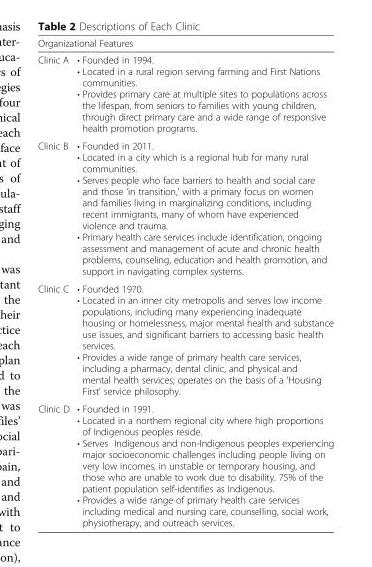table: (37, 37, 333, 527)
table column: (72, 37, 333, 527), (37, 37, 72, 527)
table column header: (37, 37, 333, 136)
table row: (37, 136, 333, 279), (37, 399, 333, 527), (37, 279, 333, 399), (37, 51, 333, 136), (37, 37, 333, 51)
table spanning cell: (37, 37, 333, 51)
